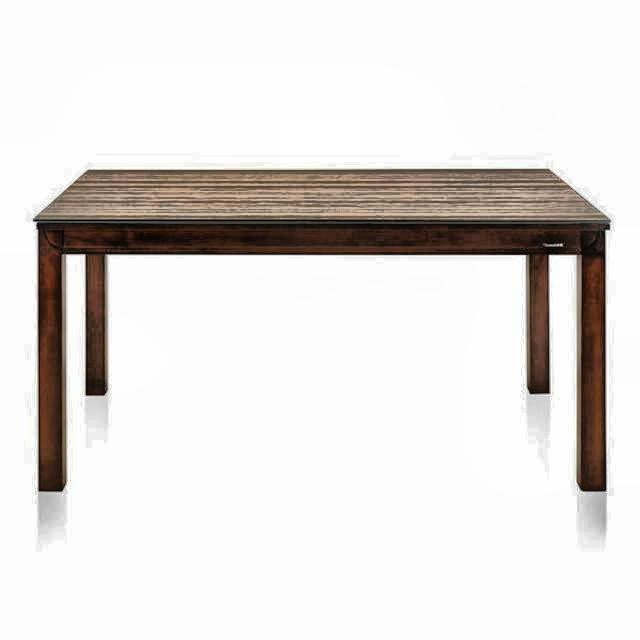mesa: (25, 148, 622, 548)
